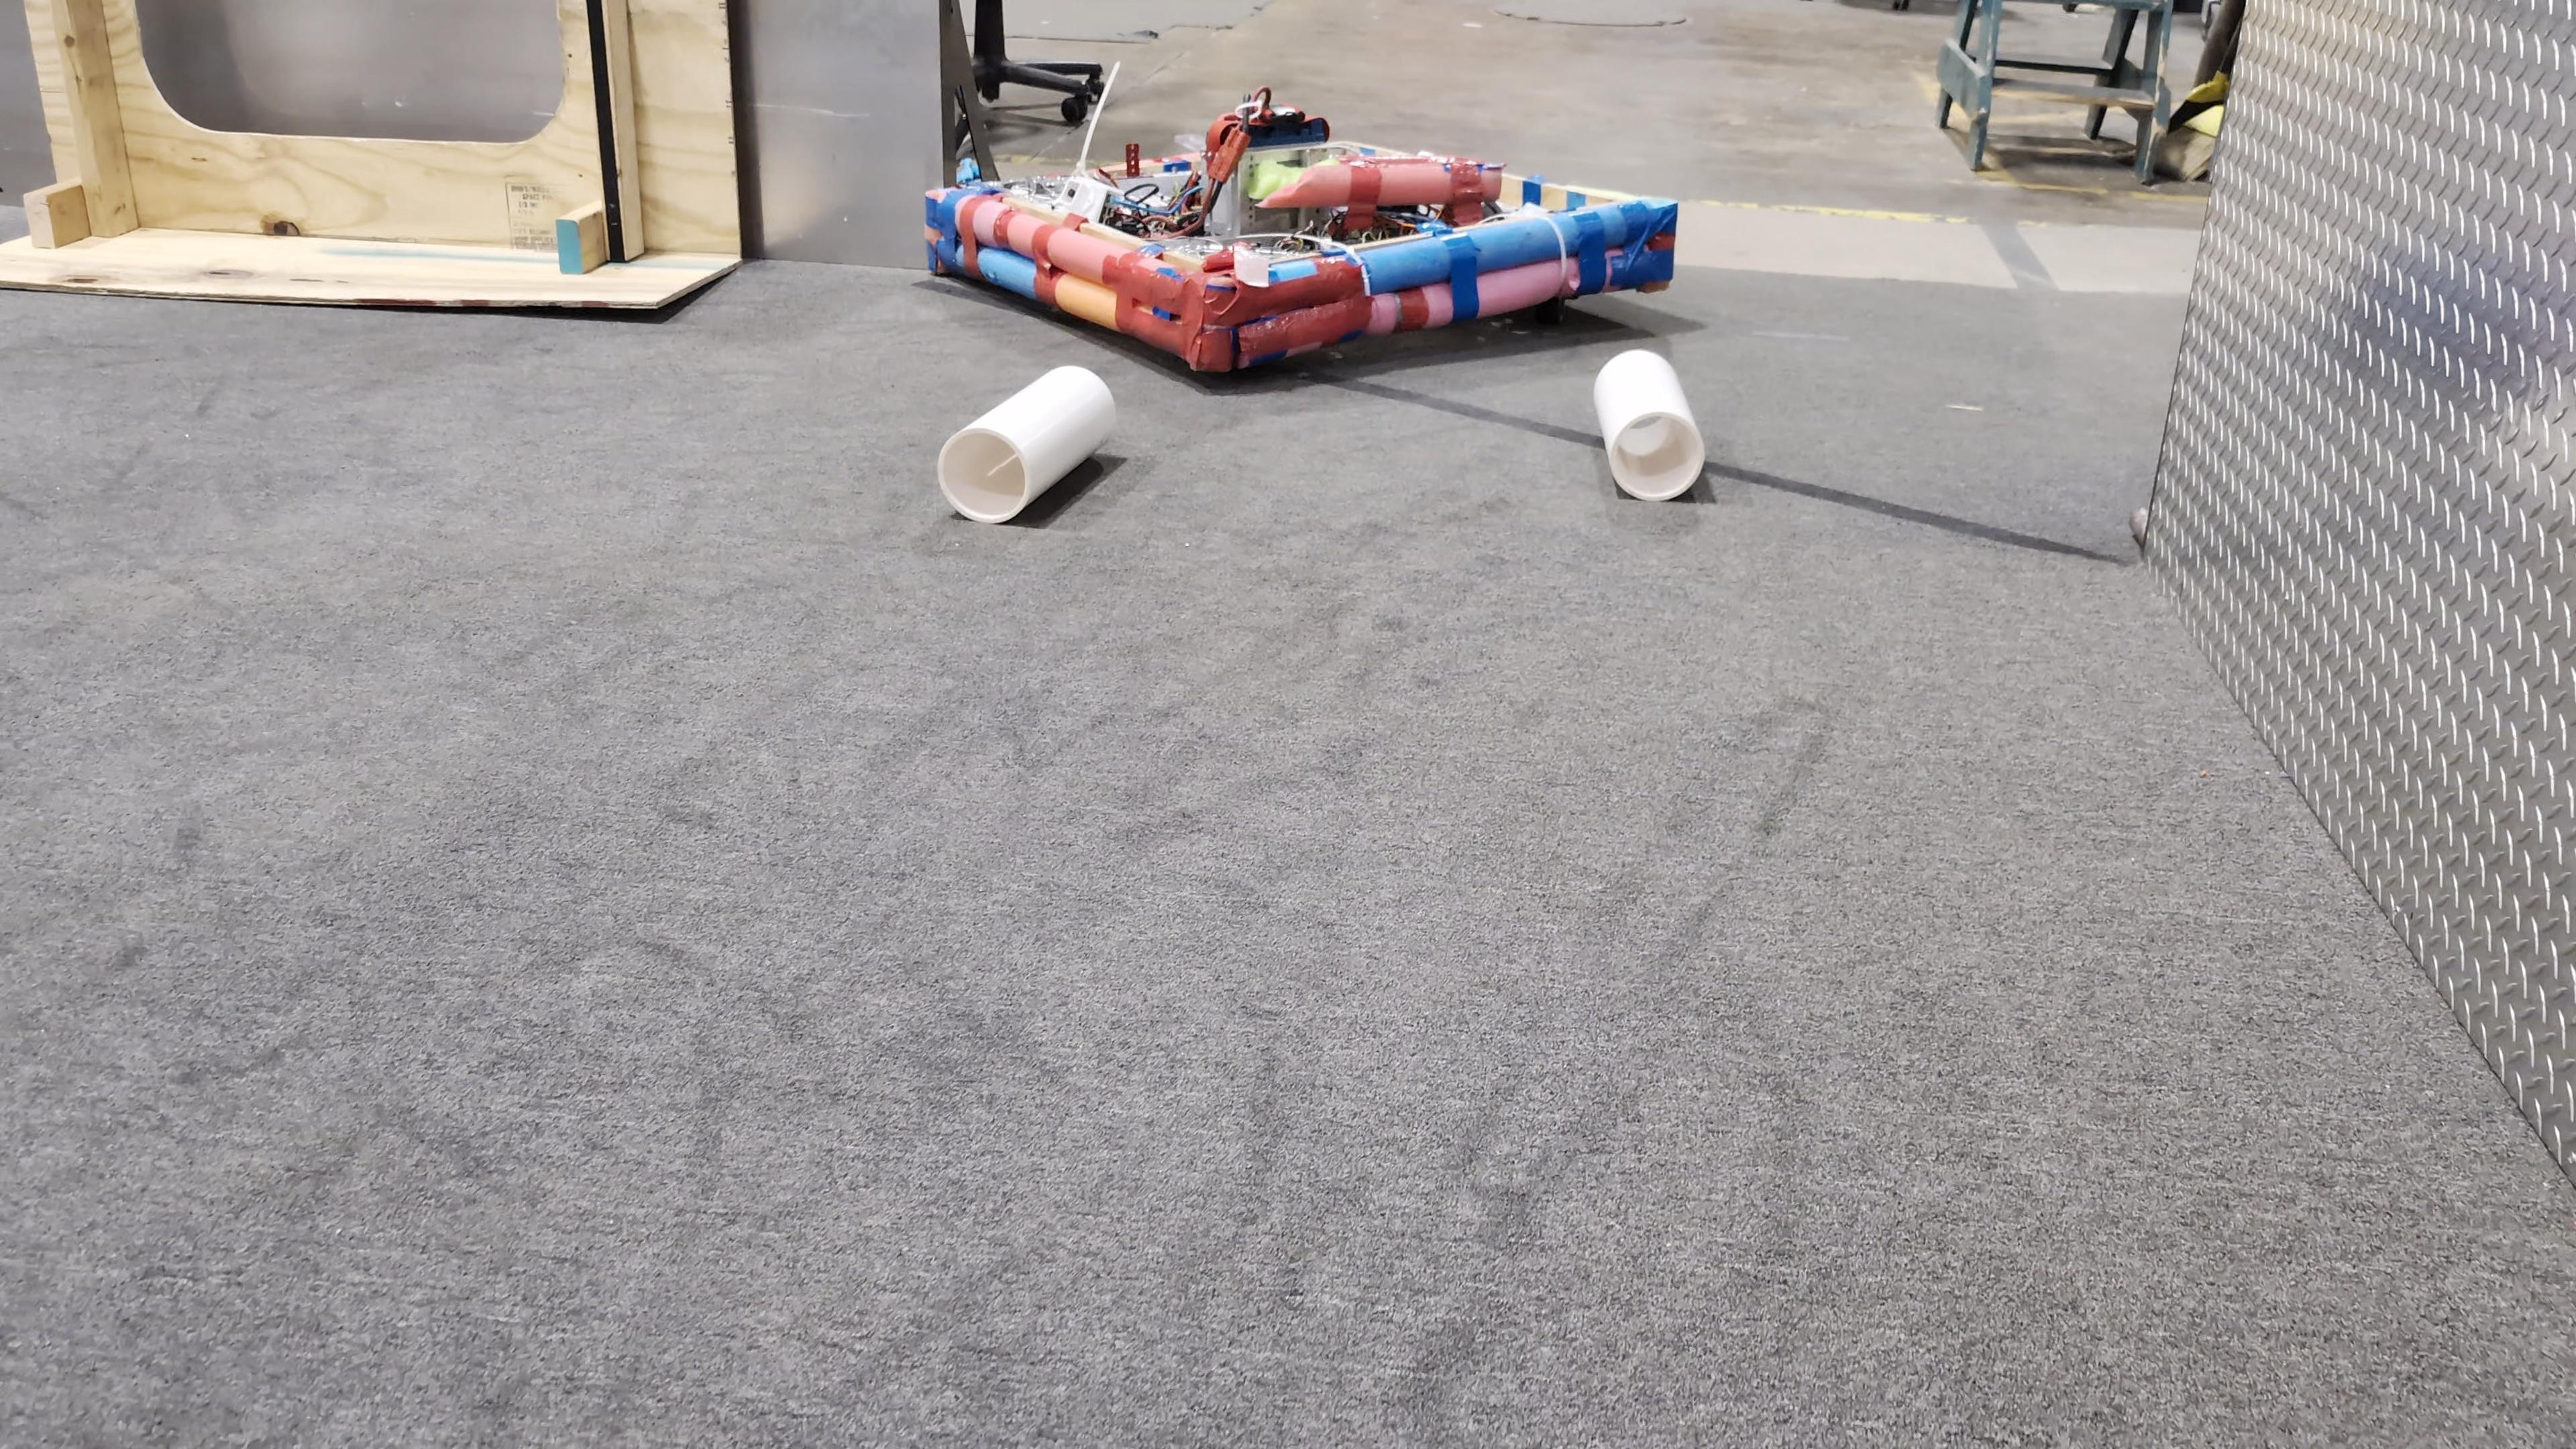coral: (941, 366, 1116, 524), (1594, 349, 1706, 502)
